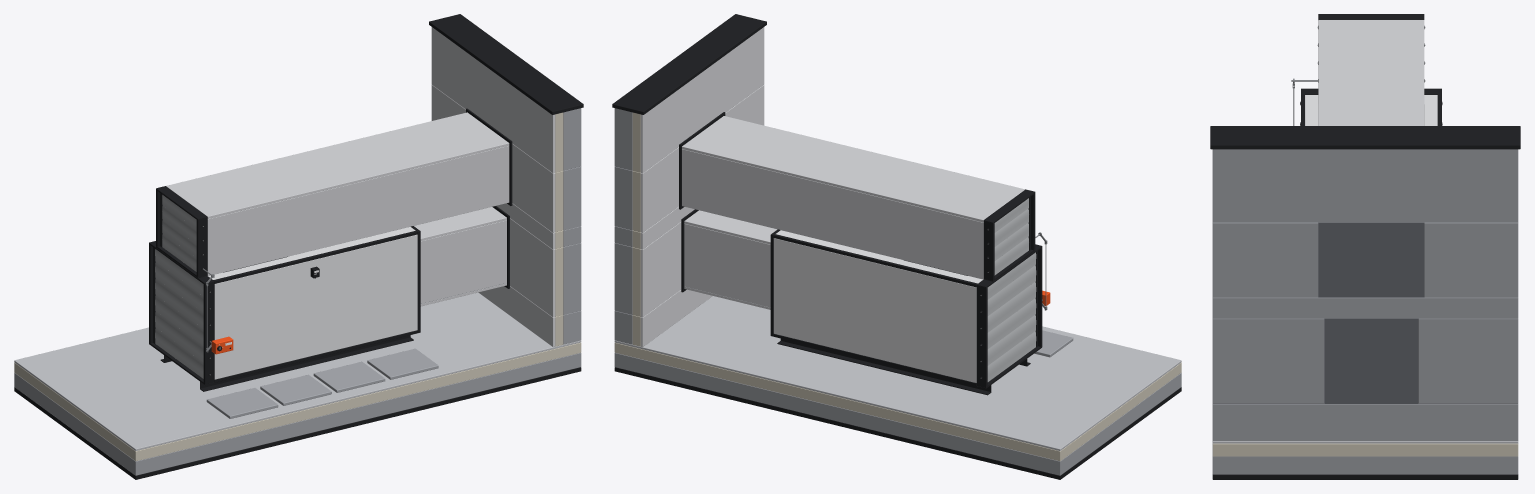
The picture shows the model from 3 angles, left to right: view 1: azimuth 30°, elevation 25°; view 2: azimuth 150°, elevation 25°; view 3: azimuth 270°, elevation 25°; orthographic projection. The views are drawn at different scales.
Visible parts, largest first — view 1: site_deck, site_wall, housing_front, ra_duct_front, ra_duct_top, sa_duct_front, site_pavers, oa_frame, housing_edges, ea_frame, base_rail_01, sa_duct_top (+7 smaller); view 2: site_deck, site_wall, housing_back, ra_duct_back, ra_duct_top, sa_duct_back, oa_frame, housing_edges, ea_frame, base_rail_02, sa_duct_top, housing_roof (+7 smaller); view 3: site_wall, site_deck, ra_duct_top, housing_roof, ea_frame.
Boxes of the visible parts, x1=… form: site_deck: x1=14, y1=292, x2=581, y2=479; site_wall: x1=429, y1=14, x2=583, y2=346; housing_front: x1=214, y1=234, x2=417, y2=379; ra_duct_front: x1=207, y1=145, x2=509, y2=275; ra_duct_top: x1=166, y1=112, x2=509, y2=218; sa_duct_front: x1=420, y1=220, x2=506, y2=303; site_pavers: x1=206, y1=348, x2=438, y2=418; oa_frame: x1=149, y1=241, x2=214, y2=385; housing_edges: x1=213, y1=226, x2=420, y2=382; ea_frame: x1=156, y1=186, x2=207, y2=278; base_rail_01: x1=200, y1=335, x2=413, y2=391; sa_duct_top: x1=414, y1=207, x2=506, y2=240; site_deck: x1=614, y1=296, x2=1181, y2=479; site_wall: x1=612, y1=14, x2=766, y2=346; housing_back: x1=773, y1=238, x2=976, y2=382; ra_duct_back: x1=682, y1=149, x2=983, y2=279; ra_duct_top: x1=682, y1=116, x2=1024, y2=222; sa_duct_back: x1=684, y1=223, x2=770, y2=307; oa_frame: x1=976, y1=244, x2=1042, y2=388; housing_edges: x1=770, y1=229, x2=977, y2=385; ea_frame: x1=983, y1=189, x2=1035, y2=281; base_rail_02: x1=777, y1=338, x2=991, y2=395; sa_duct_top: x1=684, y1=210, x2=777, y2=244; housing_roof: x1=776, y1=230, x2=982, y2=283; site_wall: x1=1210, y1=126, x2=1520, y2=440; site_deck: x1=1212, y1=441, x2=1518, y2=479; ra_duct_top: x1=1318, y1=20, x2=1424, y2=125; housing_roof: x1=1305, y1=95, x2=1437, y2=125; ea_frame: x1=1318, y1=14, x2=1424, y2=82.
Size of the model in its own units: 5.52 by 3.15 by 2.64.
